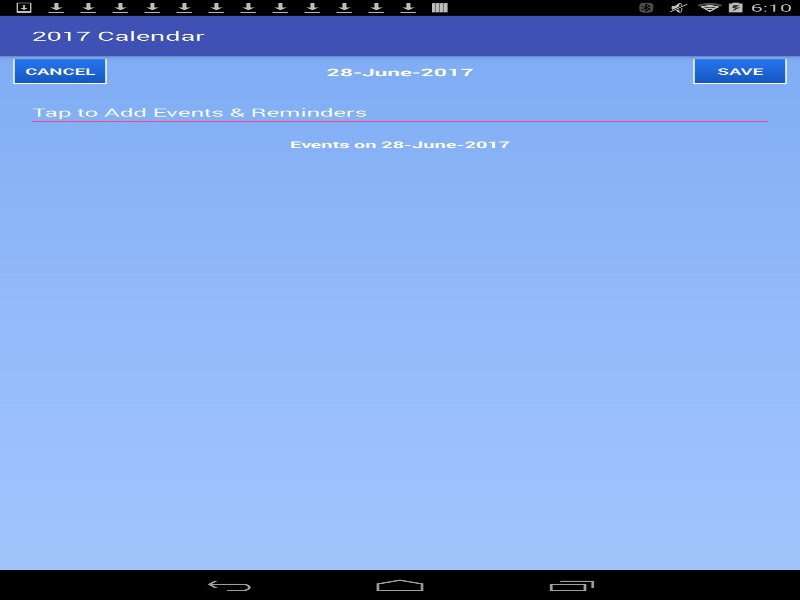Button: (13, 58, 106, 83), (693, 58, 786, 83)
Input: (26, 98, 773, 126)
